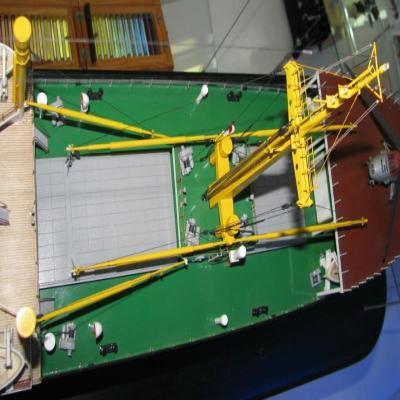other: (0, 13, 400, 400)
